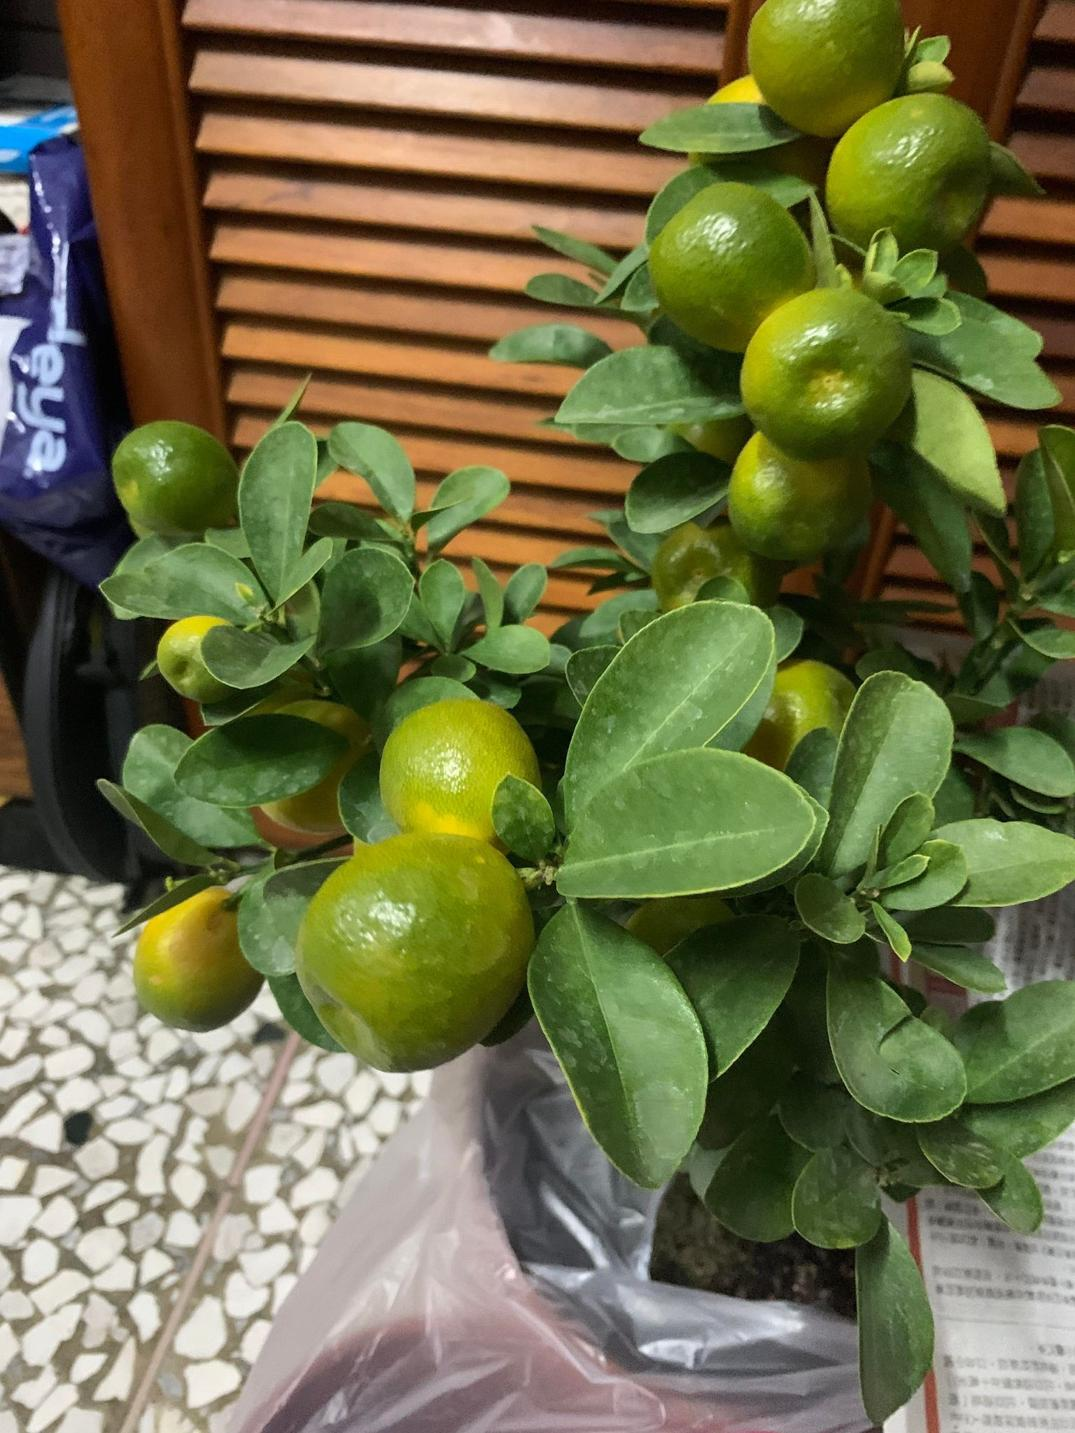Kumquat: (301, 824, 534, 1071), (641, 183, 821, 353), (742, 276, 909, 455), (379, 691, 545, 853), (830, 93, 991, 257), (729, 412, 875, 565), (133, 884, 266, 1032), (107, 413, 239, 533), (158, 619, 250, 701)
